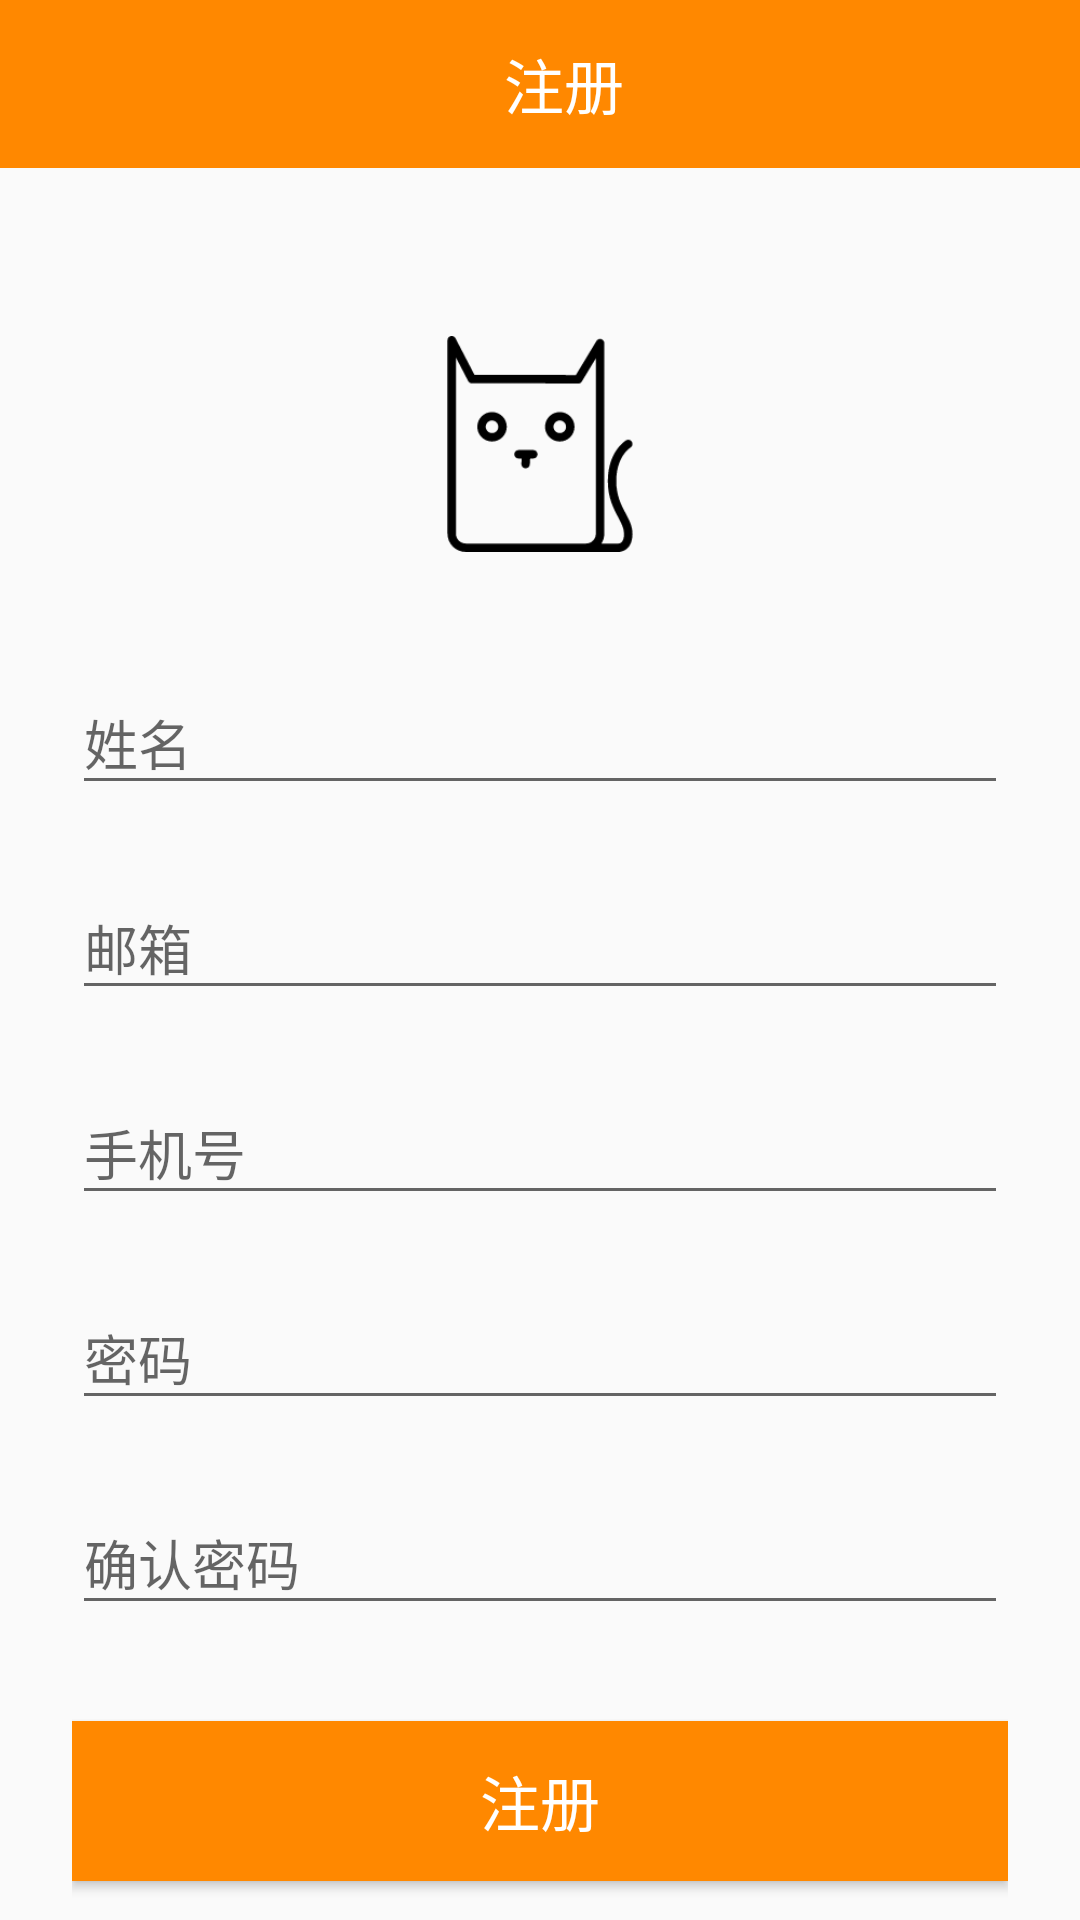

Named icons in this screenshot (1080px x 1920px) and their centers, (x=x, y=y):
cat: (x=540, y=444)
